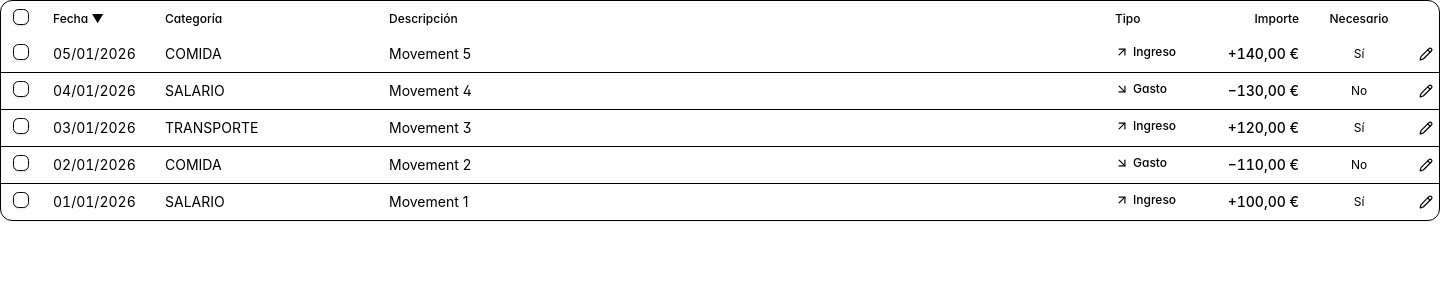
MovementsTable › multi-select › selects all rows on current page via header checkbox
The width and height of the screenshot is (1440, 287).
Click the checkbox named "Select all on page". click: [21, 17]
box: left=13, top=9, right=29, bottom=25
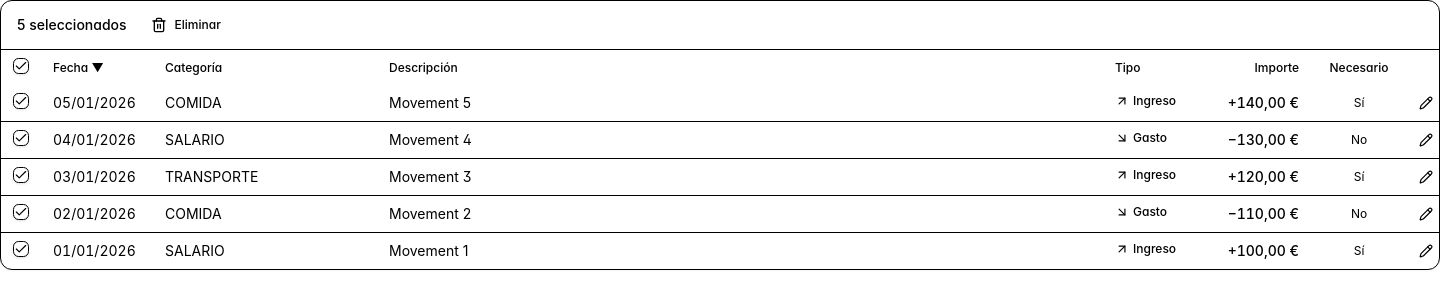
Result: the text "5 seleccionados" is shown at left=17, top=15, right=127, bottom=35
